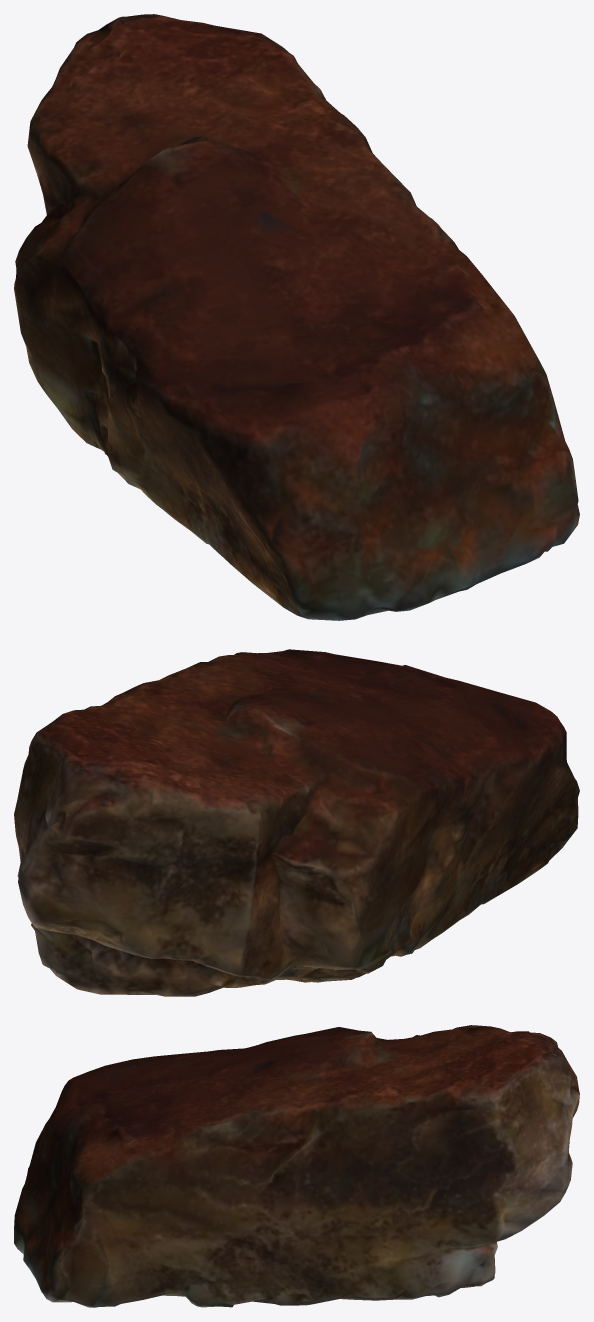
The model's file is rock_07.glb.
3 renders of one model, top to bottom at view 1: azimuth 30°, elevation 25°; view 2: azimuth 150°, elevation 25°; view 3: azimuth 270°, elevation 25°, orthographic. The views are drawn at different scales.
Parts seen in each view (by area): view 1: rock_07; view 2: rock_07; view 3: rock_07.
Part boxes in pixels (bbox=[...]): rock_07: bbox=[14, 14, 579, 620]; rock_07: bbox=[14, 649, 579, 996]; rock_07: bbox=[14, 1025, 579, 1307].
Size of the model in its own units: 0.1686 by 0.1437 by 0.3199.
1 material, 1 textured.
